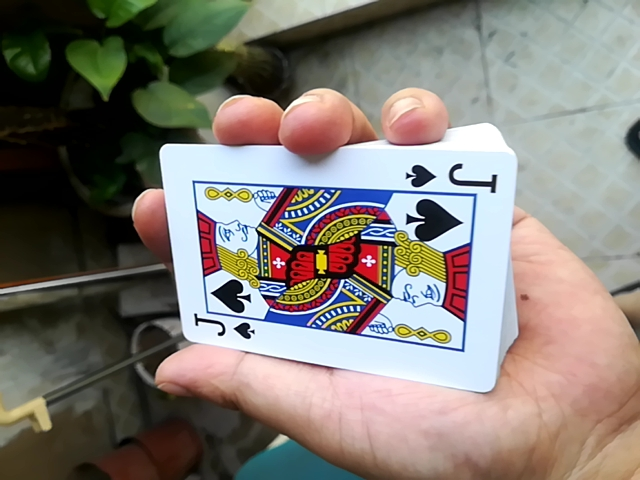ht j: (144, 110, 494, 388)
